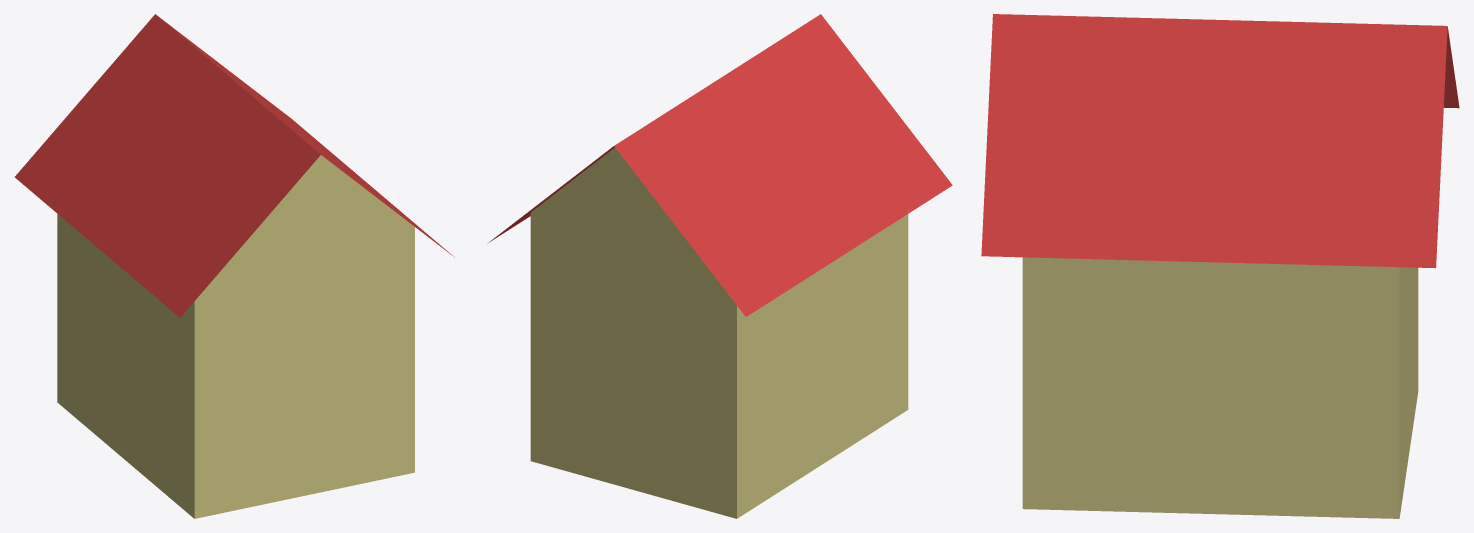
3 views of the same model, side by side, from view 1: azimuth 30°, elevation 25°; view 2: azimuth 150°, elevation 25°; view 3: azimuth 270°, elevation 25° (orthographic). The views are drawn at different scales.
Size of the model in its own units: 10.43 by 12.26 by 12.21.
